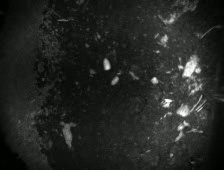corn: (101, 55, 112, 72), (109, 75, 120, 88)
